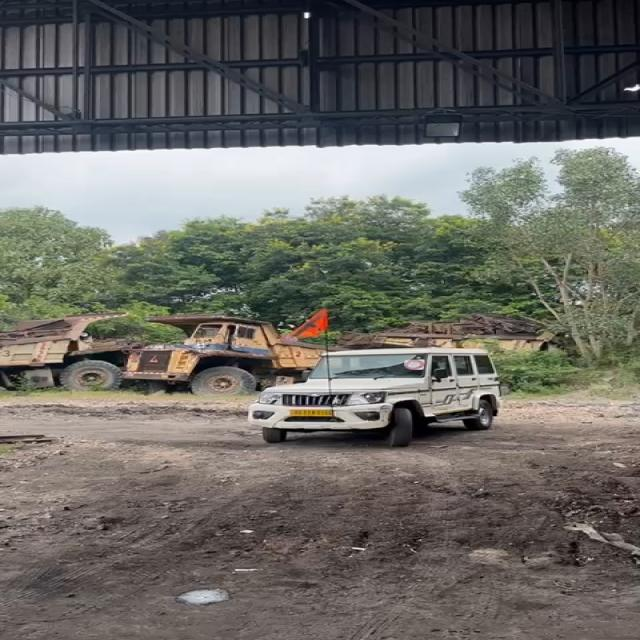light_vehicle: (254, 348, 502, 448)
